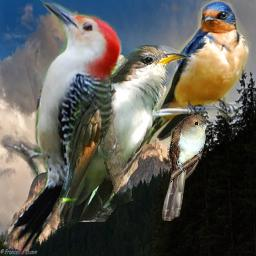Cuckoo: (59, 45, 187, 222), (162, 114, 213, 221)
Swallow: (138, 0, 251, 147)
Woodpecker: (2, 0, 122, 255)
